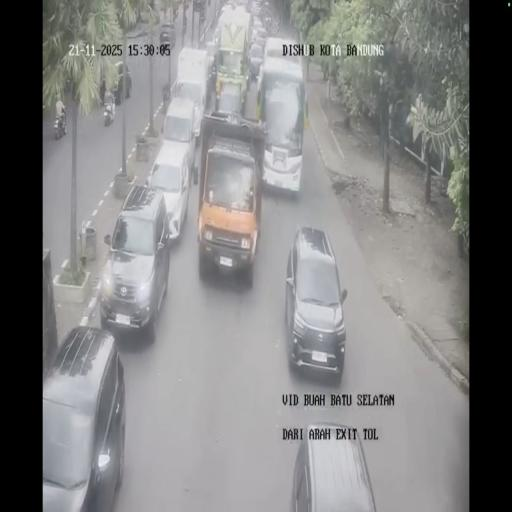car: (160, 95, 200, 164), (111, 60, 133, 102), (204, 39, 220, 90), (248, 43, 264, 79), (159, 22, 177, 51), (252, 26, 267, 49), (249, 0, 262, 18)
motorcycle: (54, 110, 66, 139), (104, 95, 115, 125), (267, 15, 280, 35)
truck: (196, 128, 262, 282), (256, 39, 306, 197), (213, 3, 253, 111)
